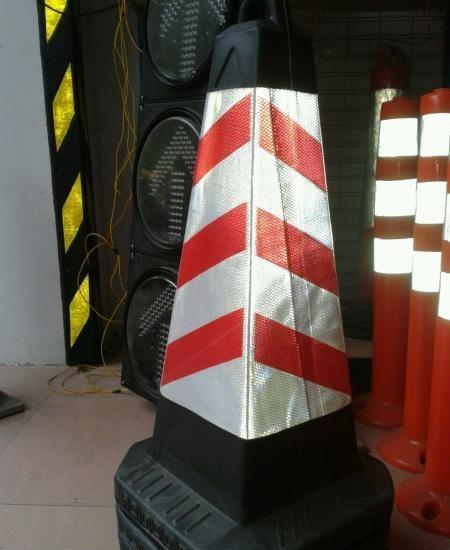cone_barrel: (123, 26, 374, 533)
